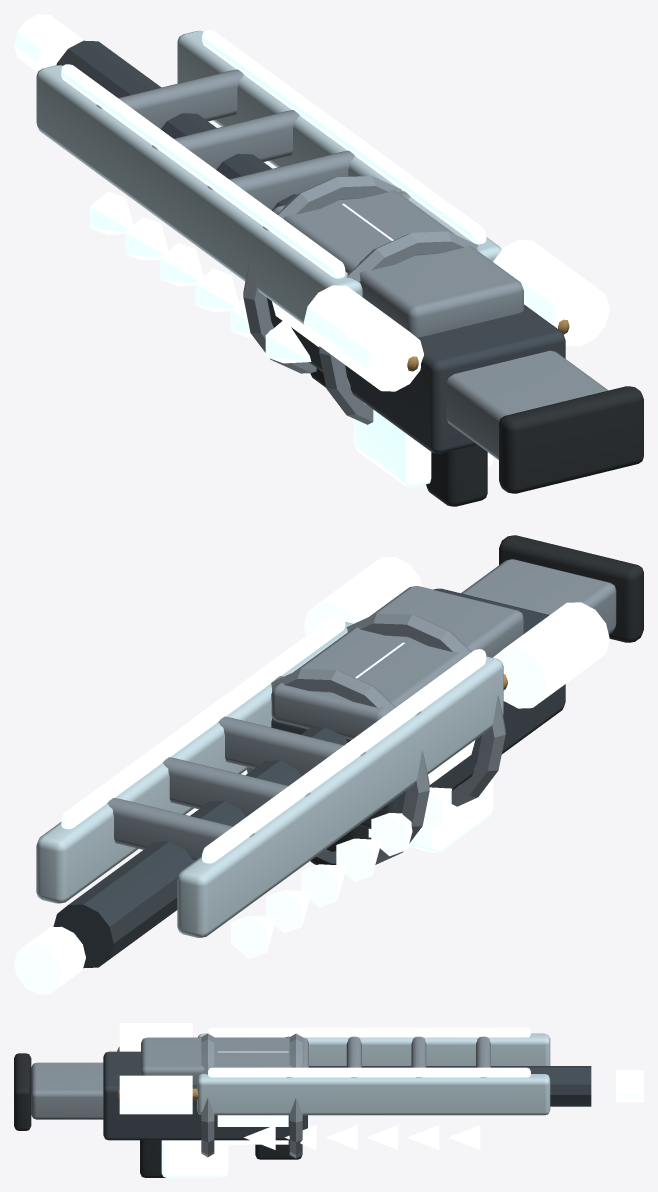
The model's file is permafrost.glb.
3 renders of one model, top to bottom at view 1: azimuth 30°, elevation 25°; view 2: azimuth 150°, elevation 25°; view 3: azimuth 270°, elevation 25°, orthographic. The views are drawn at different scales.
Parts seen in each view (by area): view 1: PERMAFROST / long rail, PERMAFROST / upper armor, PERMAFROST / receiver, PERMAFROST / butt pad, PERMAFROST / shoulder stock, PERMAFROST / coolant flask, PERMAFROST / rail conduit, PERMAFROST / rail conduit.001, PERMAFROST / long rail.001, PERMAFROST / coolant flask.001, PERMAFROST / cryo bore, PERMAFROST / reactor brace (+12 smaller); view 2: PERMAFROST / long rail, PERMAFROST / upper armor, PERMAFROST / cryo bore, PERMAFROST / long rail.001, PERMAFROST / coolant flask, PERMAFROST / rail conduit, PERMAFROST / rail conduit.001, PERMAFROST / shoulder stock, PERMAFROST / butt pad, PERMAFROST / reactor brace, PERMAFROST / receiver, PERMAFROST / rail clamp.003 (+13 smaller); view 3: PERMAFROST / long rail.001, PERMAFROST / long rail, PERMAFROST / receiver, PERMAFROST / upper armor, PERMAFROST / shoulder stock, PERMAFROST / rail conduit.001, PERMAFROST / rail conduit, PERMAFROST / coolant flask.001, PERMAFROST / power magazine, PERMAFROST / cryo bore, PERMAFROST / coolant flask, PERMAFROST / butt pad (+15 smaller).
Part boxes in pixels (x1,y1,x2,y2): PERMAFROST / long rail: (36,65,362,324); PERMAFROST / upper armor: (272,190,523,337); PERMAFROST / receiver: (267,298,565,453); PERMAFROST / butt pad: (499,386,643,493); PERMAFROST / shoulder stock: (446,350,608,459); PERMAFROST / coolant flask: (303,285,423,391); PERMAFROST / rail conduit: (61,64,345,278); PERMAFROST / rail conduit.001: (202,29,486,244); PERMAFROST / long rail.001: (177,30,501,261); PERMAFROST / coolant flask.001: (493,240,609,346); PERMAFROST / cryo bore: (56,40,296,210); PERMAFROST / reactor brace: (319,231,478,424); PERMAFROST / long rail: (177,656,503,937); PERMAFROST / upper armor: (271,586,523,739); PERMAFROST / cryo bore: (53,727,347,968); PERMAFROST / long rail.001: (36,622,352,903); PERMAFROST / coolant flask: (493,602,609,708); PERMAFROST / rail conduit: (202,649,486,863); PERMAFROST / rail conduit.001: (61,614,345,829); PERMAFROST / shoulder stock: (461,559,616,634); PERMAFROST / butt pad: (499,535,643,642); PERMAFROST / reactor brace: (346,613,505,806); PERMAFROST / receiver: (271,588,565,828); PERMAFROST / rail clamp.003: (107,798,254,860); PERMAFROST / long rail.001: (197,1074,550,1115); PERMAFROST / long rail: (198,1033,550,1065); PERMAFROST / receiver: (103,1051,307,1140); PERMAFROST / upper armor: (141,1037,308,1085); PERMAFROST / shoulder stock: (31,1062,103,1119); PERMAFROST / rail conduit.001: (208,1067,530,1077); PERMAFROST / rail conduit: (208,1027,530,1037); PERMAFROST / coolant flask.001: (119,1075,192,1114); PERMAFROST / power magazine: (161,1140,228,1177); PERMAFROST / cryo bore: (309,1066,591,1106); PERMAFROST / coolant flask: (119,1023,192,1051); PERMAFROST / butt pad: (14,1053,31,1130).
Bounding box in the file's own units: 0.76 × 0.691 × 2.93.
